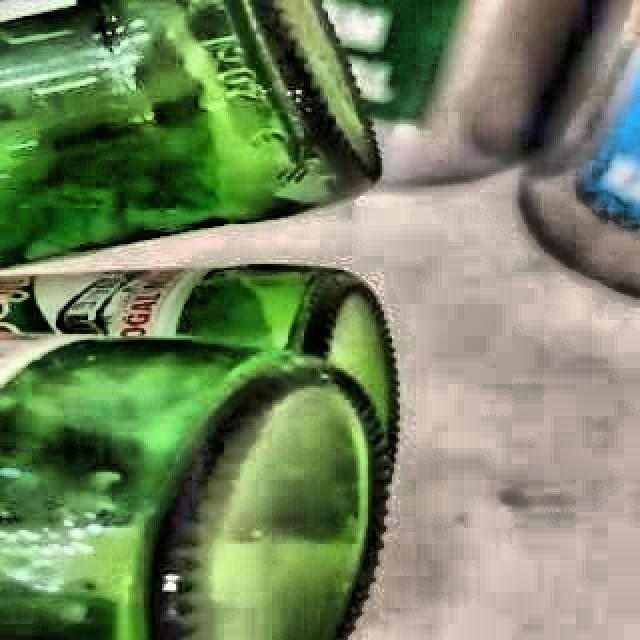glass: (0, 265, 400, 640)
